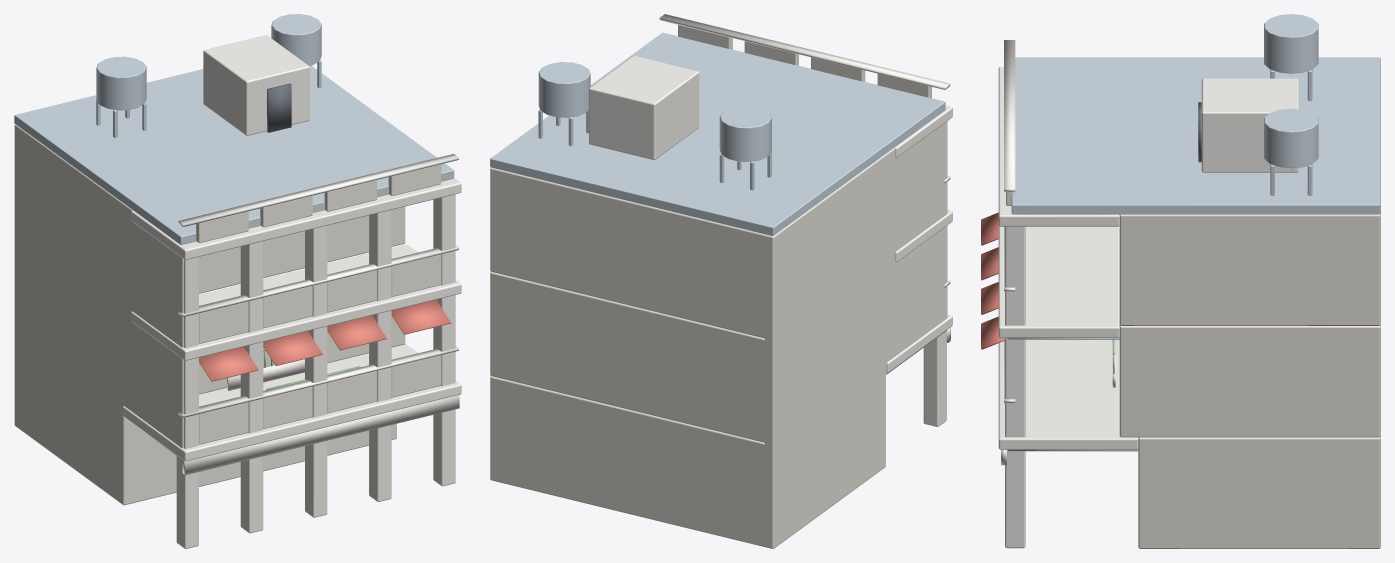
Rendered from chunghwa.glb.
3 views of the same model, side by side, from view 1: azimuth 30°, elevation 25°; view 2: azimuth 150°, elevation 25°; view 3: azimuth 270°, elevation 25° (orthographic). The views are drawn at different scales.
Visible parts, largest first — view 1: block, bridge; view 2: block; view 3: block, bridge.
Part boxes in pixels (x1,y1,x2,y2): block: [14, 14, 461, 548]; bridge: [226, 348, 360, 397]; block: [490, 14, 952, 548]; block: [981, 14, 1380, 548]; bridge: [1025, 339, 1115, 388].
Bounding box in the file's own units: 9.5 × 12.2 × 10.71.
